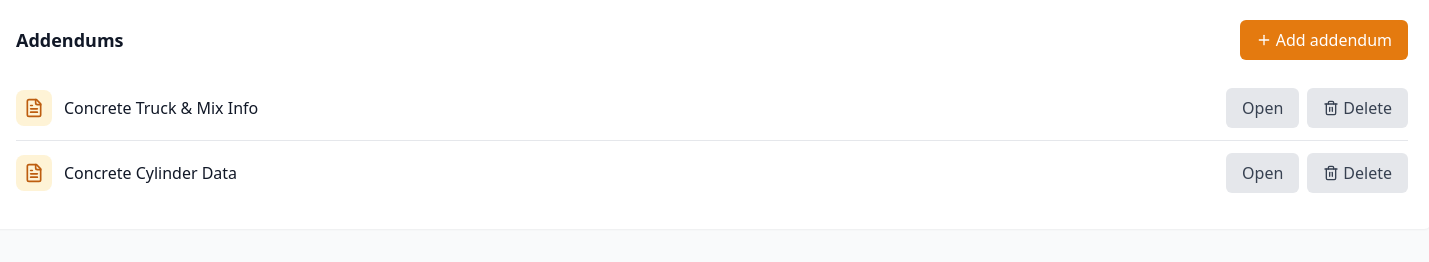
Test: AddendumsSection — add › offers only addendum types that have a page
Click the button "Add addendum" at {"x": 1324, "y": 40}, box [1240, 20, 1408, 60]
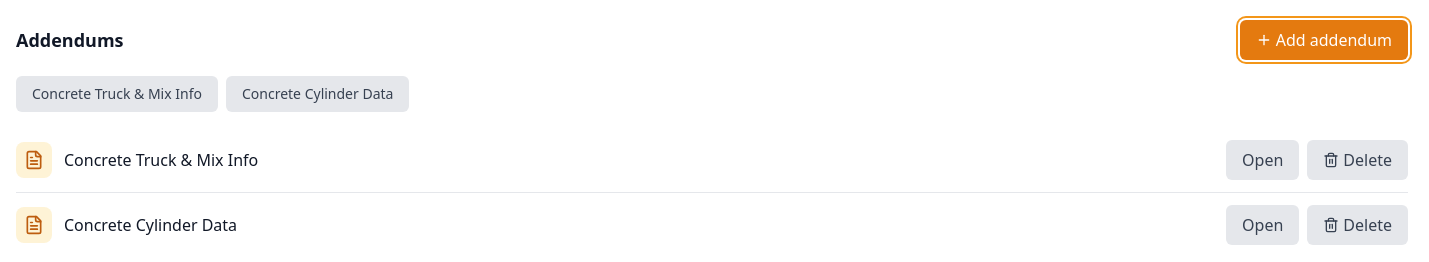
expect the buttons read "Concrete Truck & Mix Info", "Concrete Cylinder Data", in this order: met, box [16, 76, 218, 112]; [226, 76, 410, 112]
